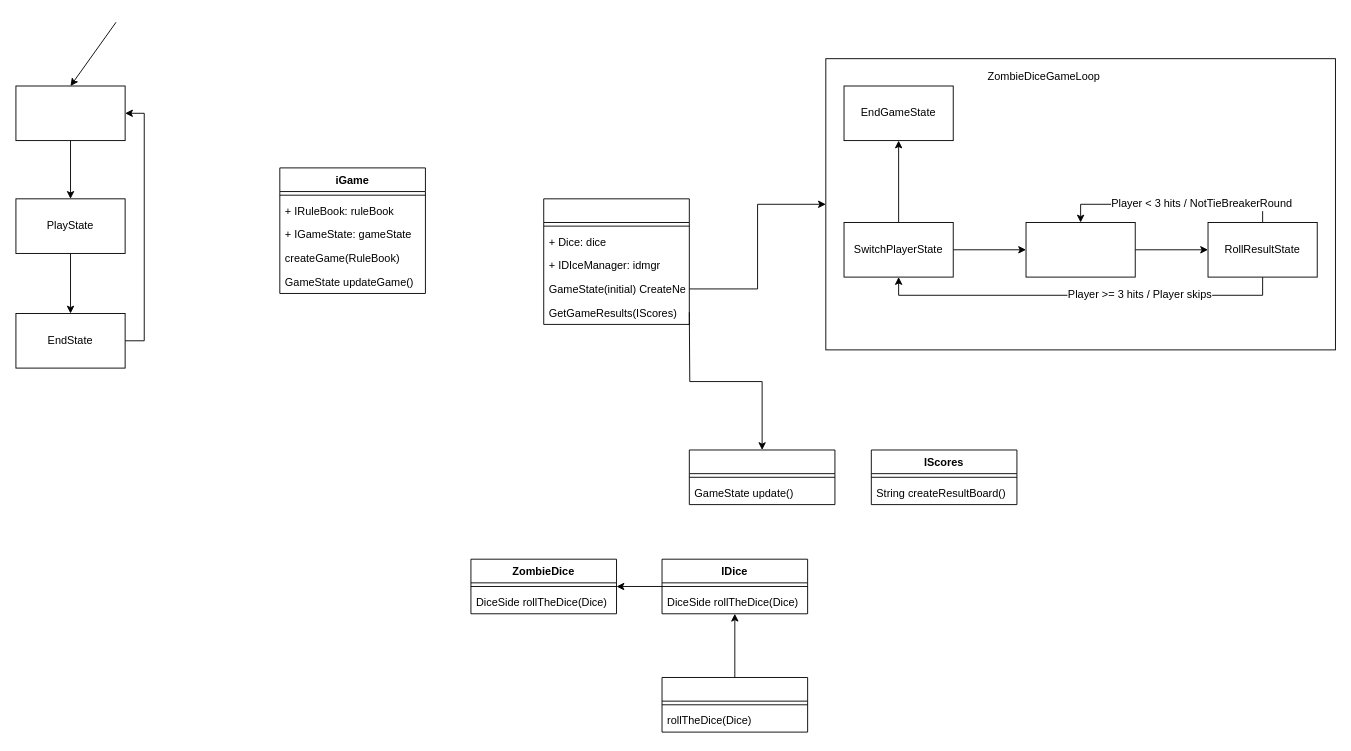
The diagram is 1351 pixels wide and 751 high, and some of its shapes have lost their labels. The box of each missing label's shape, as (x1, y1, x2, y2) in pixels:
IDiceRollManager: (661, 677, 808, 732)
IGameState: (688, 449, 835, 505)
InitialState: (15, 85, 125, 141)
RollDiceState: (1025, 222, 1135, 277)
RuleBook: (543, 198, 689, 324)
